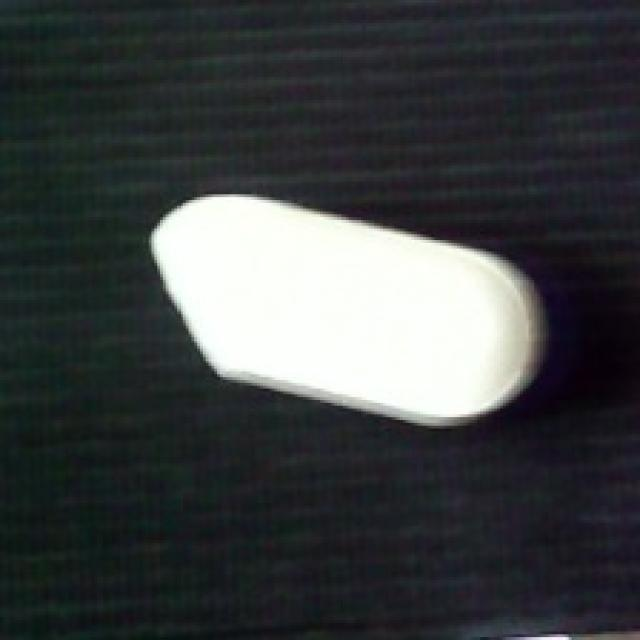defected: (145, 192, 546, 432)
